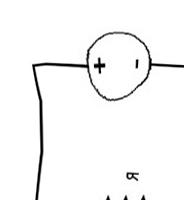Battery: (73, 22, 162, 109)
